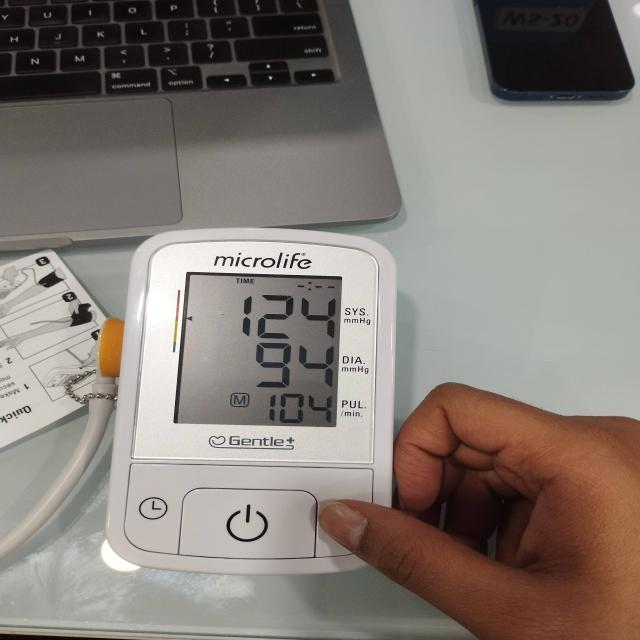bp: (83, 200, 407, 579)
